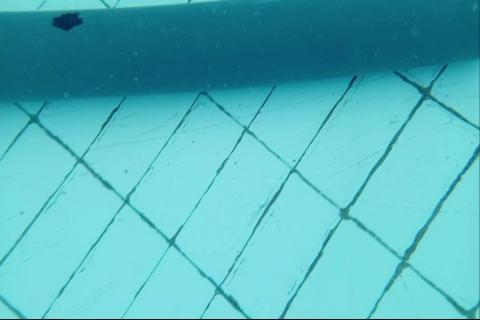kebocoran: (51, 11, 84, 33)
